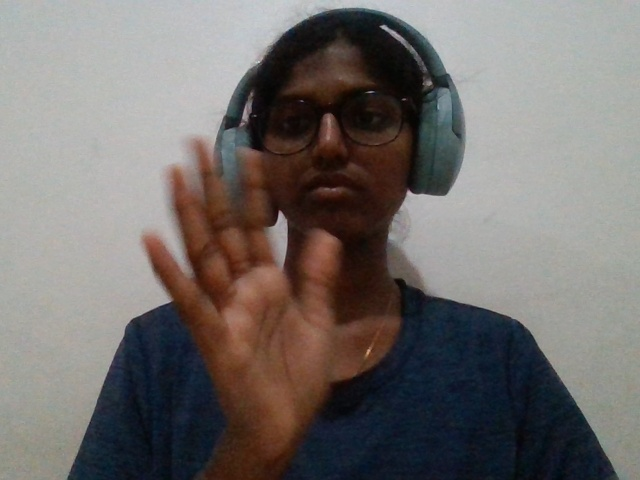Bye: (128, 136, 361, 463)
